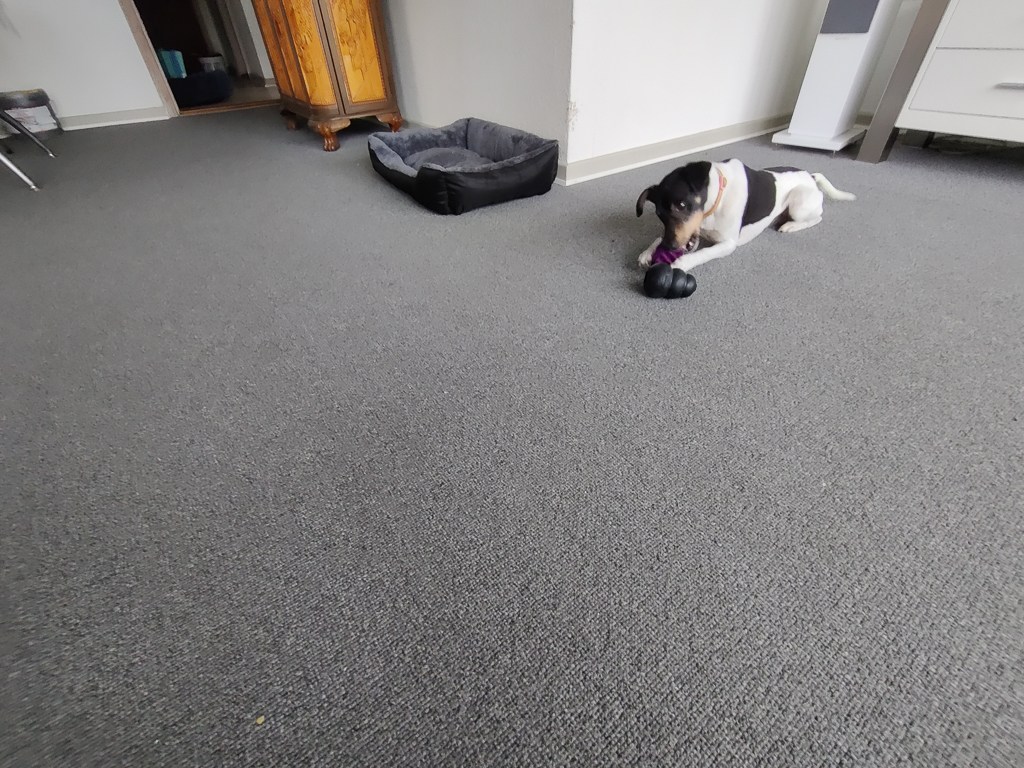Dog: (619, 153, 872, 287)
